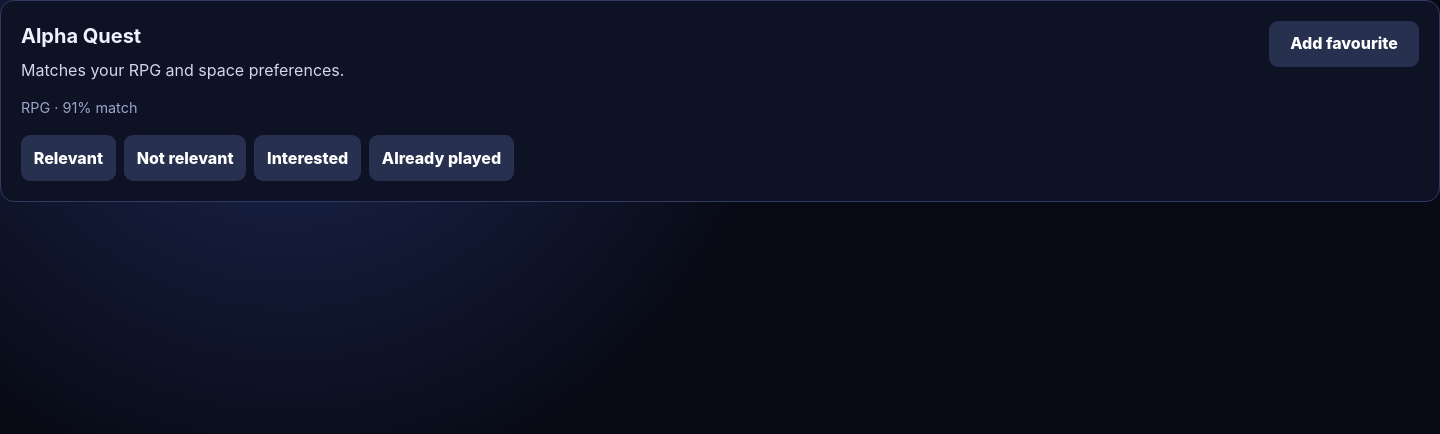
Test: user activity UI › adds and removes a favourite from a recommendation card
Click the button with aria-label "Add Alpha Quest to favourites".
click(1344, 44)  # box x1=1269 y1=21 x2=1419 y2=67
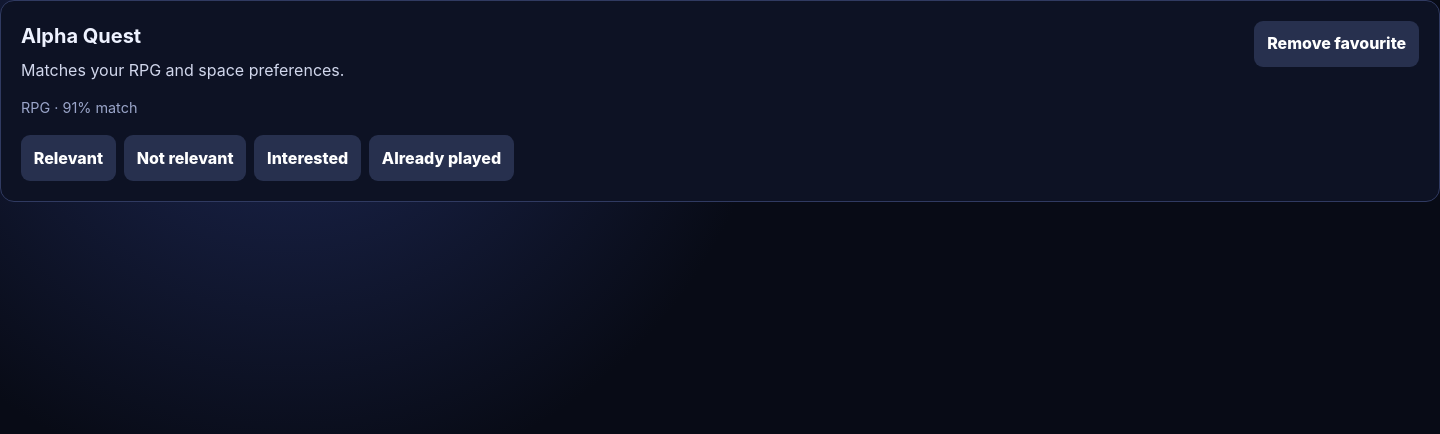
Check: the button with aria-label "Remove Alpha Quest from favourites" is shown
Click the button with aria-label "Remove Alpha Quest from favourites".
click(1337, 44)  # box x1=1254 y1=21 x2=1419 y2=67
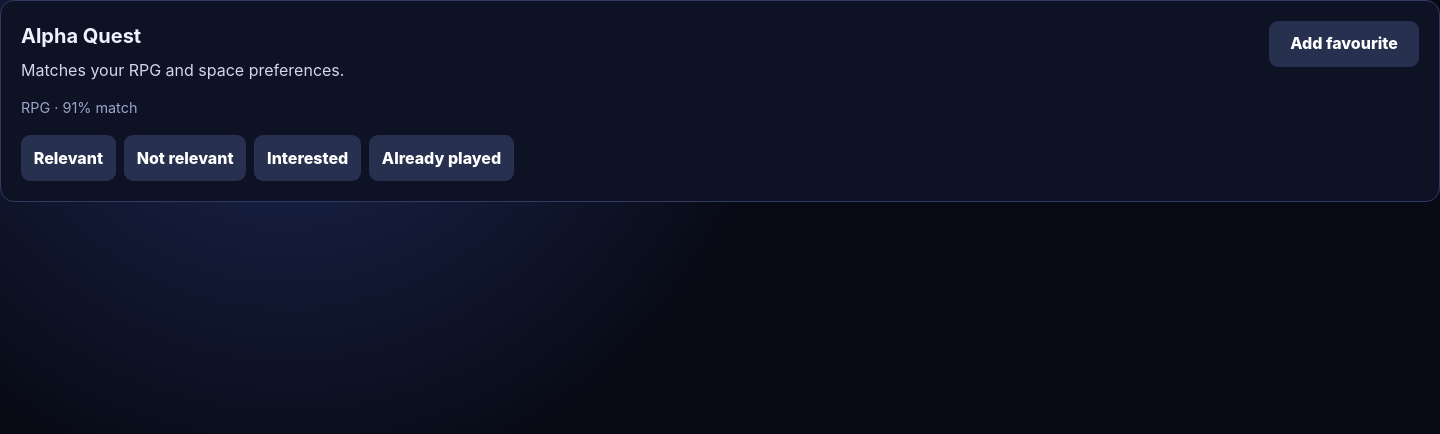
Check: the button with aria-label "Add Alpha Quest to favourites" is shown, box x1=1269 y1=21 x2=1419 y2=67
